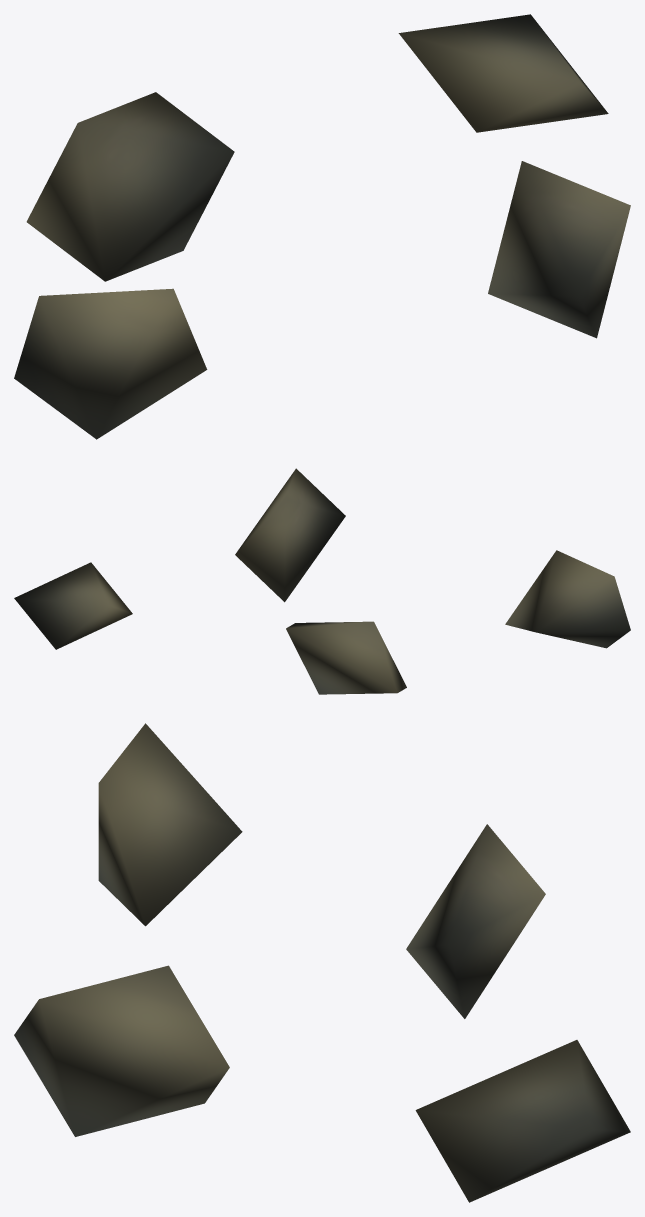
File: NP_Onion_Seed_LOD1.fbx
The picture shows the model from 3 angles, top to bottom: view 1: azimuth 30°, elevation 25°; view 2: azimuth 150°, elevation 25°; view 3: azimuth 270°, elevation 25°; orthographic projection. The views are drawn at different scales.
Visible parts, largest first — view 1: NP_Onion_Seed; view 2: NP_Onion_Seed; view 3: NP_Onion_Seed.
Part boxes in pixels (box(x1,y1,x2,y2)): NP_Onion_Seed: box(14, 14, 630, 439); NP_Onion_Seed: box(14, 468, 630, 694); NP_Onion_Seed: box(14, 723, 630, 1202).
Bounding box in the file's own units: 18.98 × 3.66 × 13.07.
